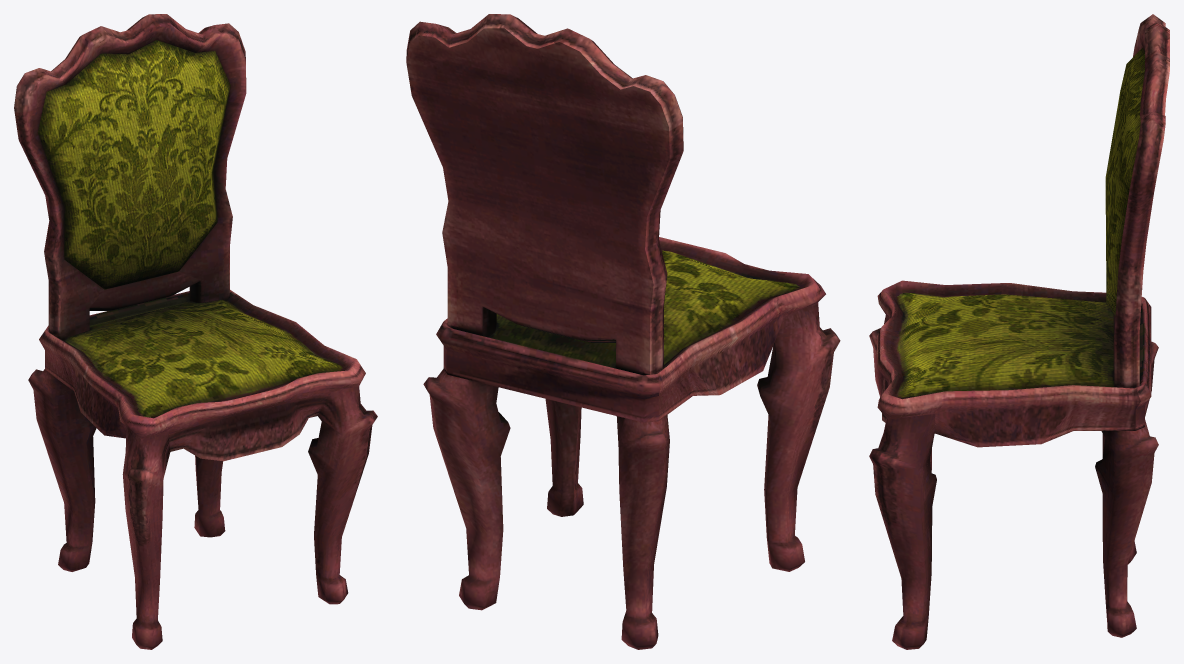
File: chair_nice08.dae
3 renders of one model, left to right at view 1: azimuth 30°, elevation 25°; view 2: azimuth 150°, elevation 25°; view 3: azimuth 270°, elevation 25°, orthographic. The views are drawn at different scales.
Visible parts, largest first — view 1: chair_nice01_Mesh; view 2: chair_nice01_Mesh; view 3: chair_nice01_Mesh.
Part boxes in pixels (<box>): chair_nice01_Mesh: <box>14,14,377,649</box>; chair_nice01_Mesh: <box>406,14,840,649</box>; chair_nice01_Mesh: <box>869,14,1169,649</box>.
Size of the model in its own units: 0.6539 by 1.31 by 0.6397.
